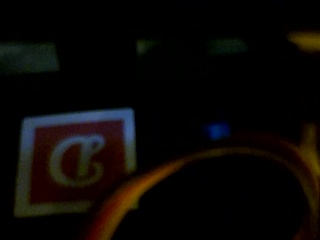D: (31, 122, 128, 205)
